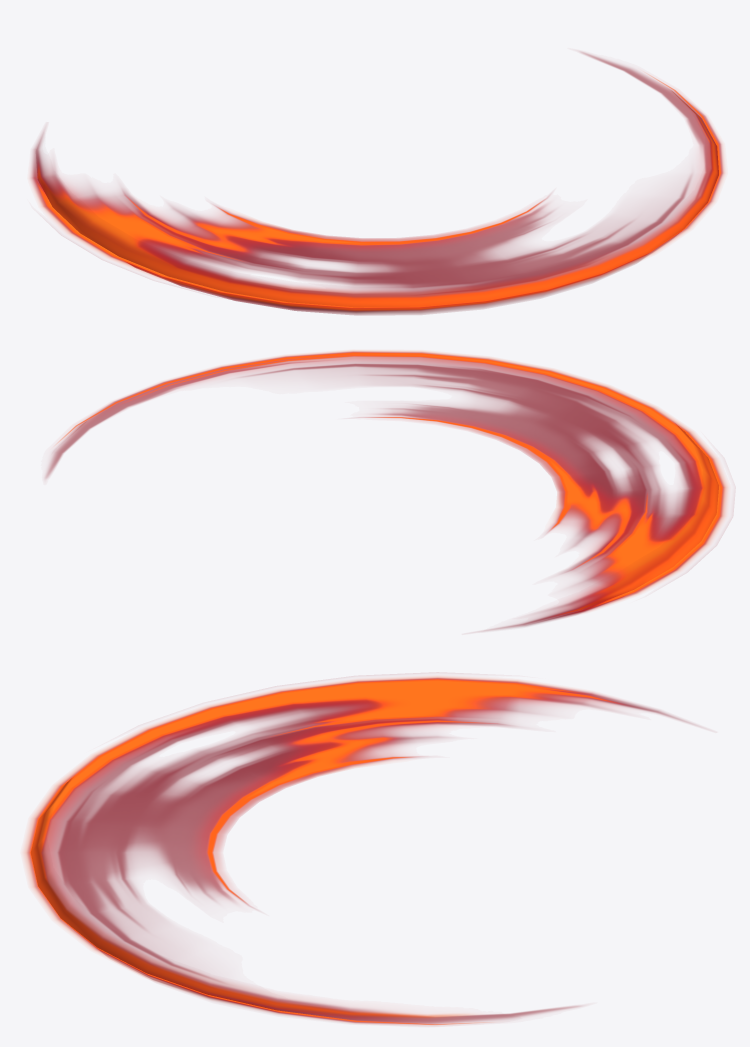
File: RedSlash.gltf
3 renders of one model, top to bottom at view 1: azimuth 30°, elevation 25°; view 2: azimuth 150°, elevation 25°; view 3: azimuth 270°, elevation 25°, orthographic. The views are drawn at different scales.
Parts seen in each view (by area): view 1: Circle.005_Material_0; view 2: Circle.005_Material_0; view 3: Circle.005_Material_0.
Boxes of the visible parts, box(x1,y1,x2,y2) form: Circle.005_Material_0: box(30, 52, 724, 315); Circle.005_Material_0: box(45, 351, 727, 630); Circle.005_Material_0: box(24, 676, 694, 1025).
Bounding box in the file's own units: 14.5 × 0.7131 × 12.39.
1 material, 1 textured.
